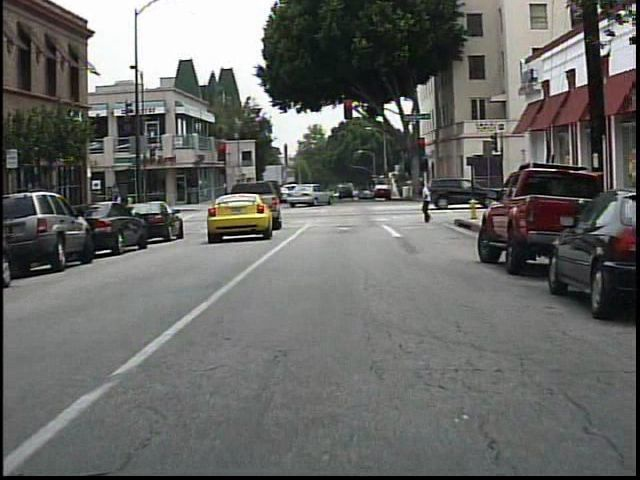person: (414, 180, 439, 225)
